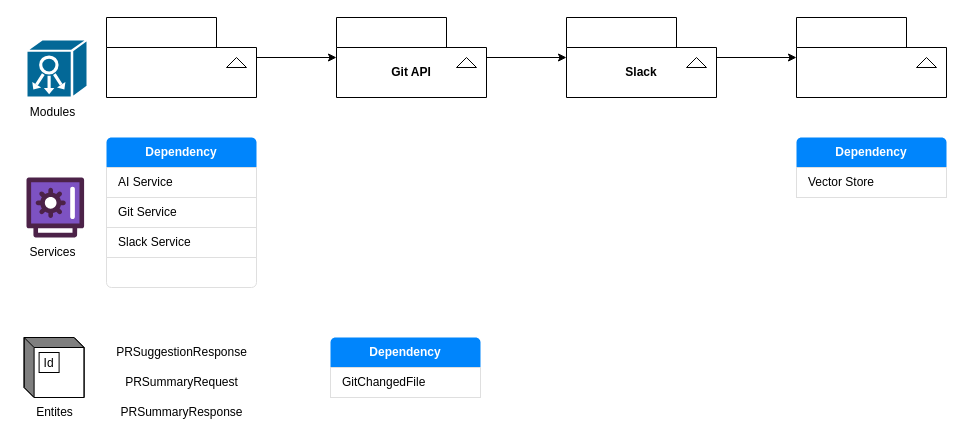
Image size: 964x445. Some labels were removed from this diagram. Here are the shapes that lost their labels. From the top down, the centre of each, then its label:
At pixel 181 57: "Git Webhook".
At pixel 871 57: "AI".
At pixel 181 272: "Populate Vector Store".
